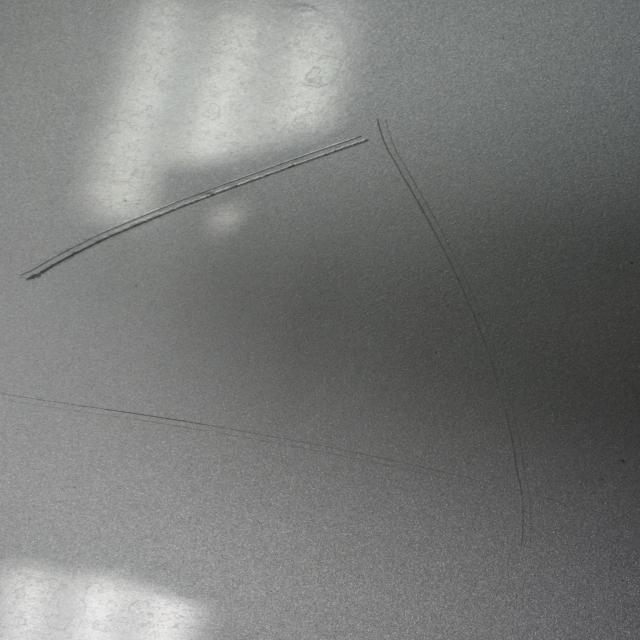scratch: (0, 388, 635, 519), (372, 110, 541, 556), (16, 129, 379, 288)
water marks: (115, 54, 203, 99), (295, 51, 349, 89), (194, 99, 227, 123)
